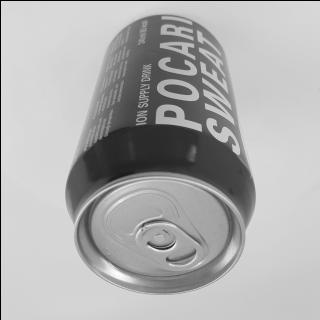alumunium_can: (60, 1, 258, 298)
